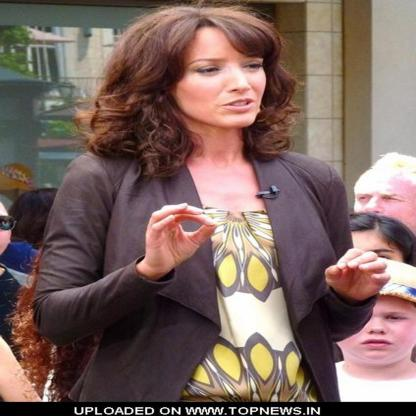face: (176, 26, 267, 129), (335, 292, 410, 362), (356, 179, 416, 236), (345, 231, 402, 289)
